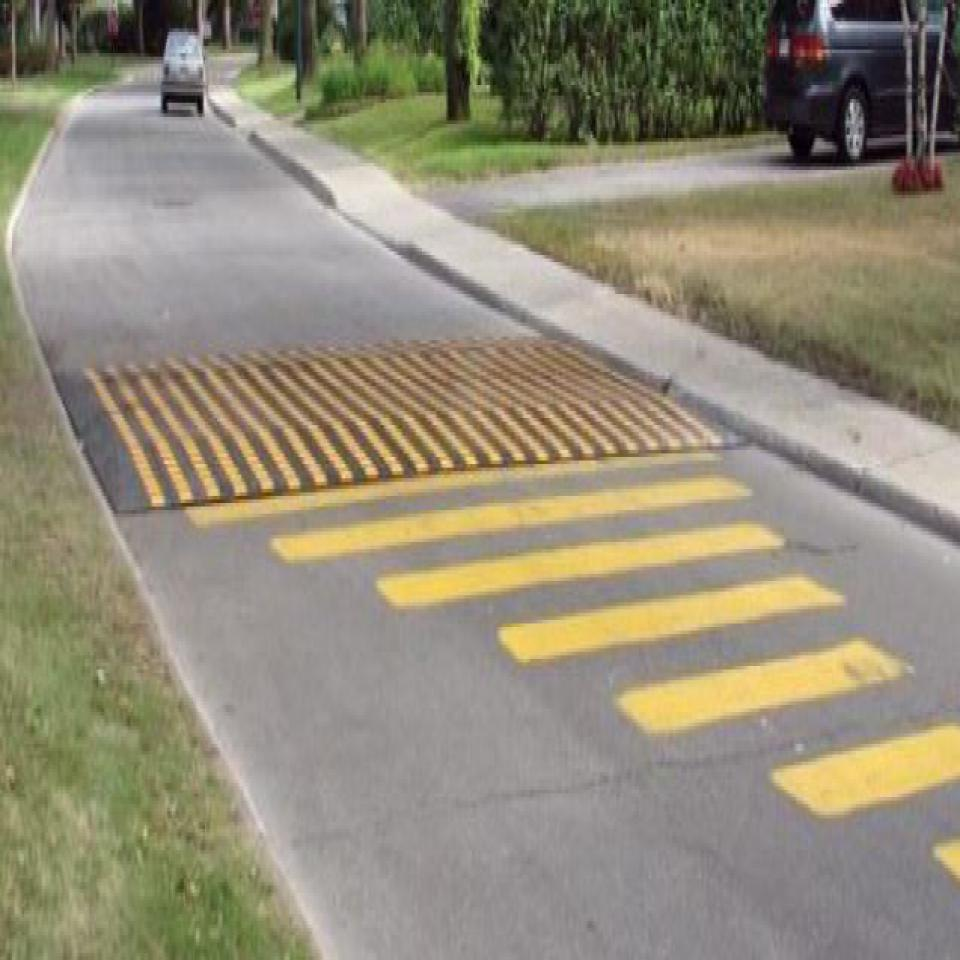speedbreaker: (52, 337, 714, 503)
